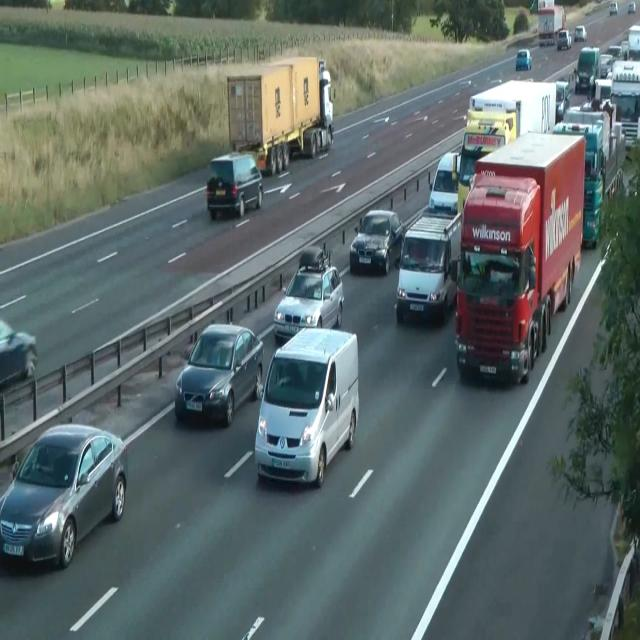bus: (0, 422, 128, 570), (174, 322, 264, 426), (457, 122, 508, 213), (0, 318, 38, 388), (428, 150, 461, 214), (555, 79, 570, 121), (556, 28, 572, 50), (516, 49, 532, 70), (599, 54, 613, 78), (608, 44, 622, 60), (574, 25, 587, 42), (621, 40, 629, 60), (609, 1, 617, 15), (628, 2, 636, 13)
jeep: (254, 325, 360, 488), (394, 210, 462, 324), (272, 244, 344, 343), (206, 151, 264, 220), (349, 208, 403, 275)
minibus: (454, 129, 586, 385), (456, 78, 556, 214), (226, 55, 334, 176), (552, 100, 626, 249), (610, 59, 640, 153), (574, 46, 600, 94), (537, 4, 565, 46), (621, 23, 639, 61)
